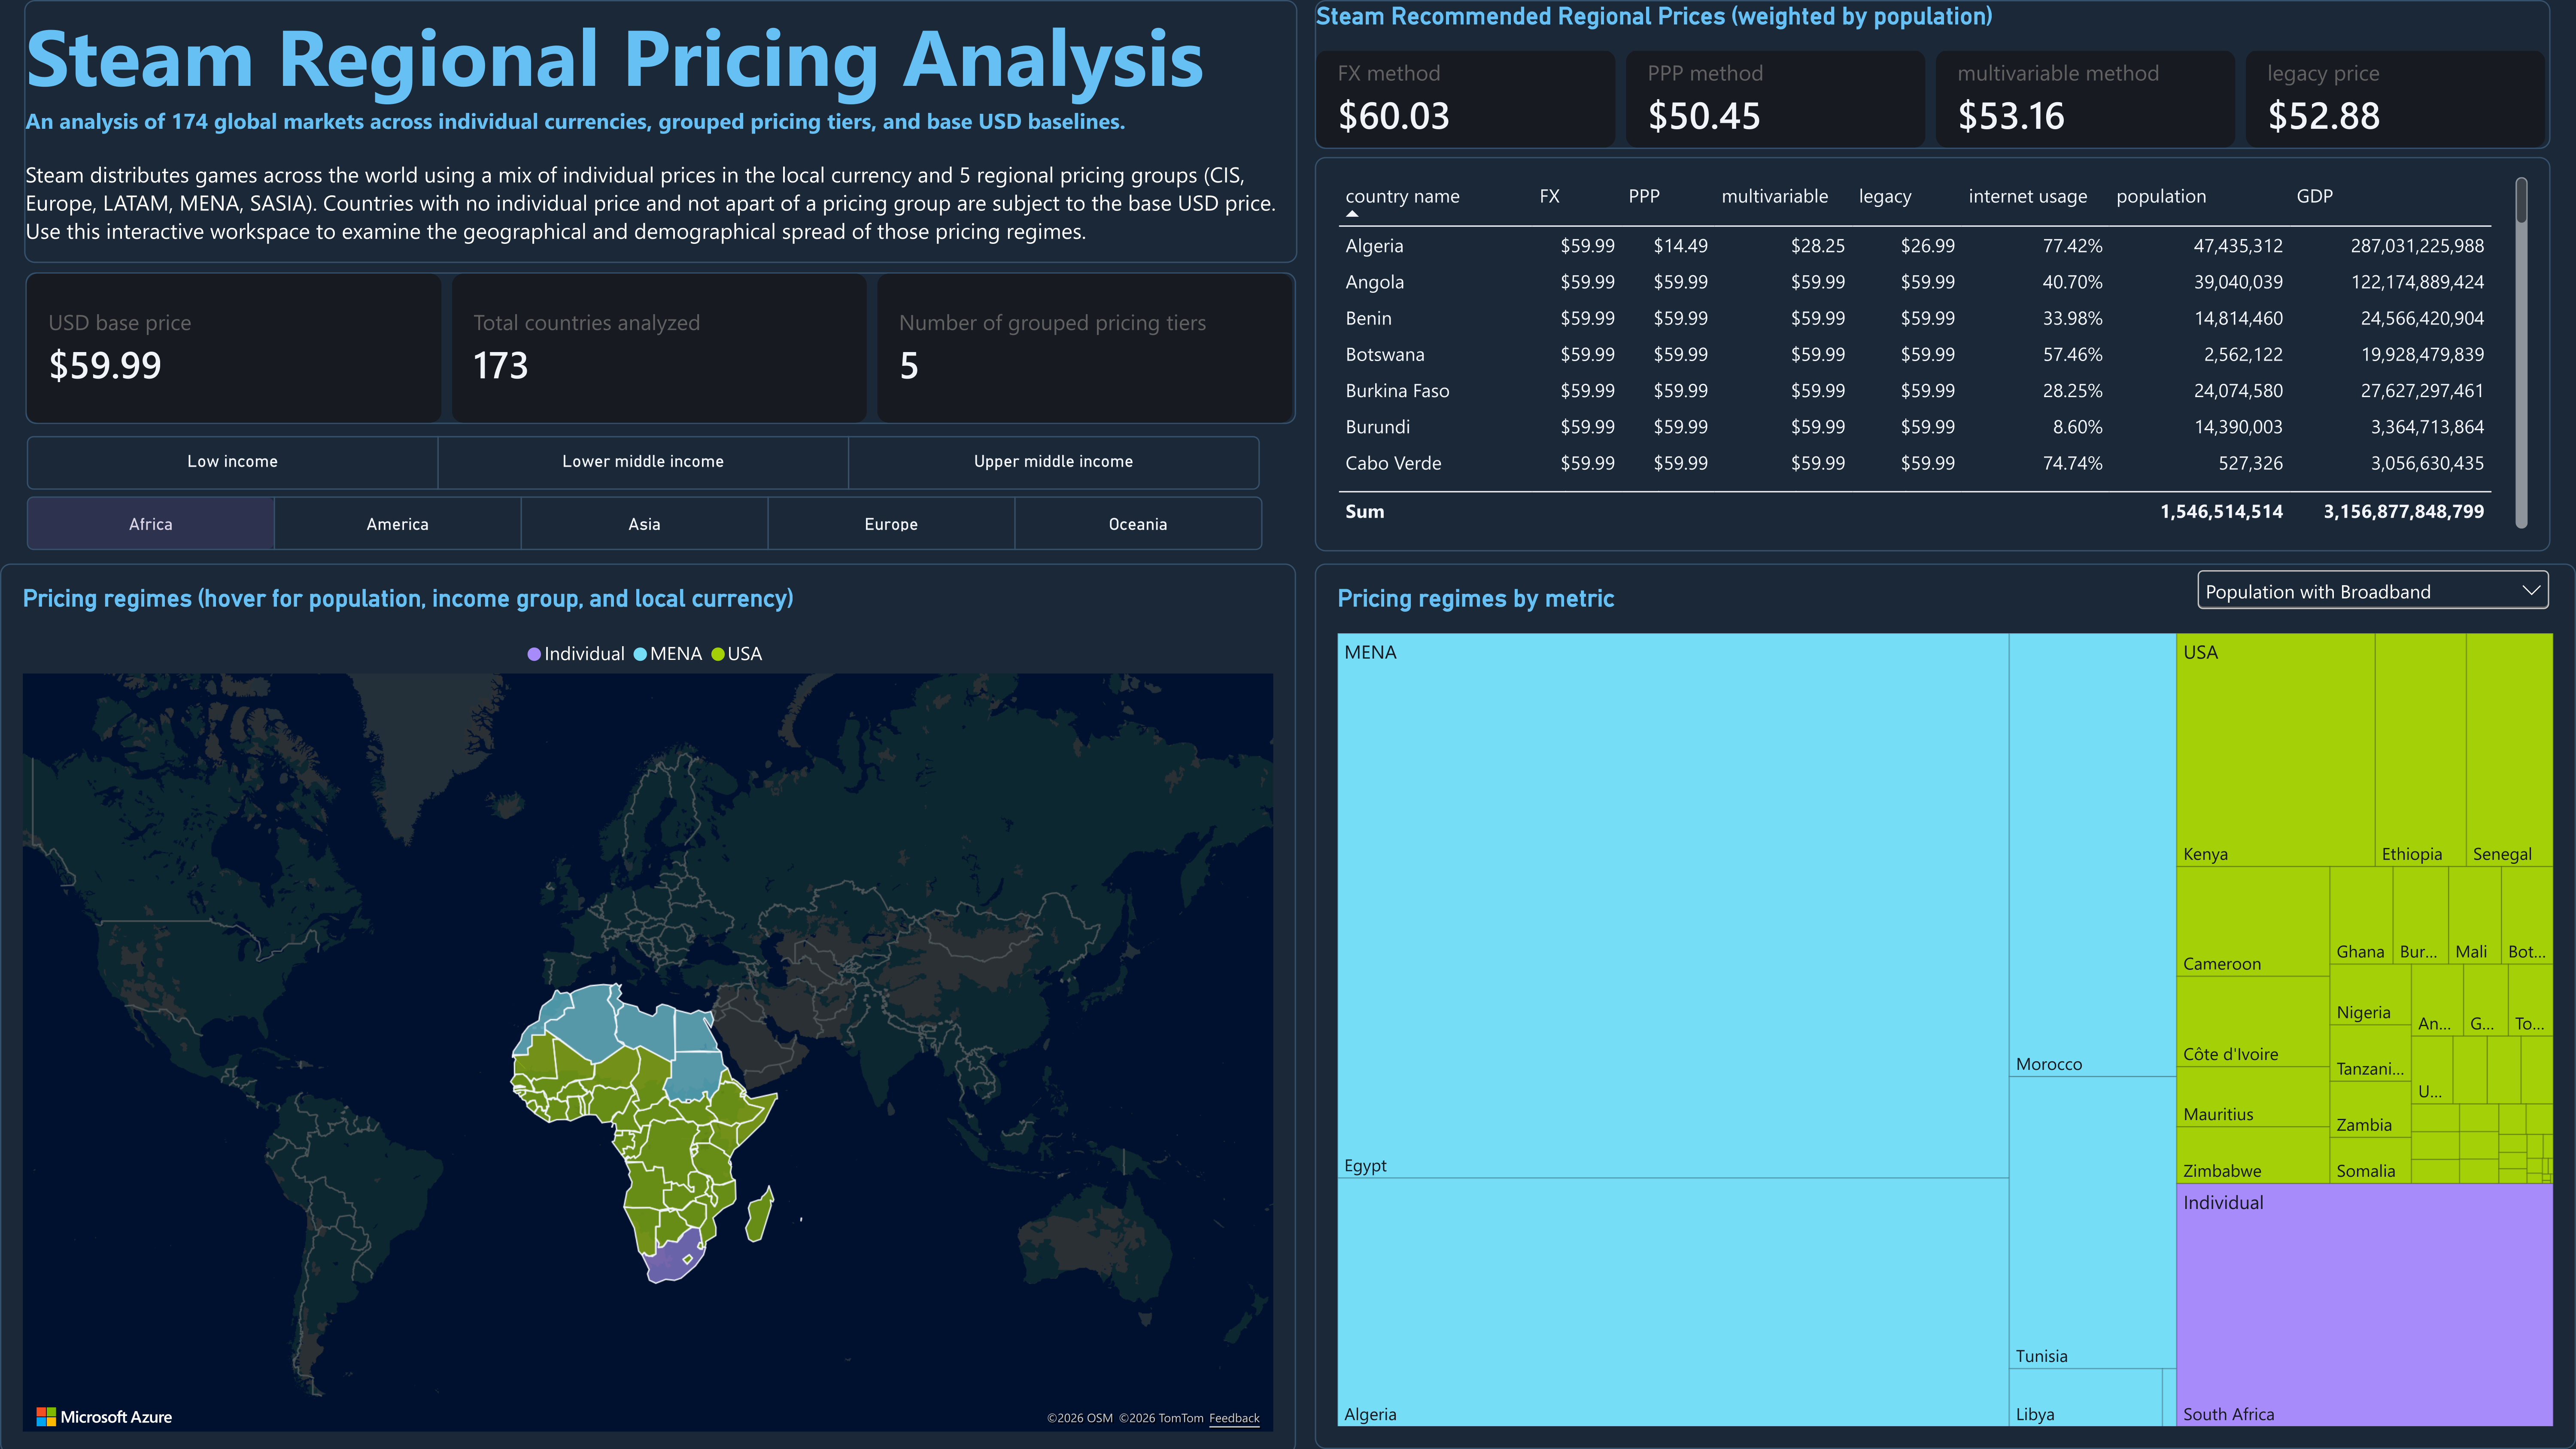

The page's visual inventory and layout, read from the dashboard file:
{"tool":"powerbi","page":{"name":"Geographic and demographic distribution of pricing regimes","canvas":[1920,1080],"ordinal":0},"visuals":[{"type":"azureMap","title":"Pricing regimes (hover for population, income group, and local currency)","fields":{"Category":["steam_regional_pricing_dataset.iso2","steam_regional_pricing_dataset.iso3"],"Series":["steam_regional_pricing_dataset.group_name"]},"box":[0,419.8,965.8,664.2],"z":0},{"type":"treemap","title":"Pricing regimes by metric","fields":{"Details":["steam_regional_pricing_dataset.country_name"],"Group":["steam_regional_pricing_dataset.group_name"],"Values":["steam_regional_pricing_dataset.Total Population"]},"box":[980.4,419.8,939.2,660.2],"z":1000},{"type":"cardVisual","fields":{"Data":["steam_regional_pricing_dataset.USD Base Price","steam_regional_pricing_dataset.Total Countries Analyzed","steam_regional_pricing_dataset.Number of Grouped Pricing Tiers"]},"box":[18.6,202.9,947.1,113.6],"z":2000},{"type":"cardVisual","title":"Steam Recommended Regional Prices (weighted by population)","fields":{"Data":["steam_regional_pricing_dataset.Weighted Average Price FX","steam_regional_pricing_dataset.Weighted Average Price PPP","steam_regional_pricing_dataset.Weighted Average Price multivariable","steam_regional_pricing_dataset.Weighted Average Price legacy"]},"box":[980,0,921.4,111.4],"z":3000},{"type":"advancedSlicerVisual","fields":{"Values":["steam_regional_pricing_dataset.continent"]},"box":[0,370,961,40],"z":4000},{"type":"advancedSlicerVisual","fields":{"Values":["steam_regional_pricing_dataset.WB_income_classification"]},"box":[0,325,961.4,40],"z":5000},{"type":"slicer","fields":{"Values":["treemap parameters.treemap parameters"]},"box":[1633.3,420,271.7,55],"z":6000},{"type":"textbox","box":[18,0,948.6,195.7],"z":7000},{"type":"tableEx","fields":{"Values":["steam_regional_pricing_dataset.country_name","steam_regional_pricing_dataset.price_steam_FX_USD","steam_regional_pricing_dataset.price_steam_PPP_USD","steam_regional_pricing_dataset.price_steam_multivariable_USD","steam_regional_pricing_dataset.price_steam_legacy_USD","steam_regional_pricing_dataset.WB_percent_using_internet","Sum(steam_regional_pricing_dataset.total_population)","Sum(steam_regional_pricing_dataset.WB_GDP_USD)"]},"box":[980,117.1,921.4,294.3],"z":8000}]}

Visuals, with their boxes in screenshot pixels (x1, y1, x2, y2), scaled from the page's 1920x1080 canvas onto the 2576x1449 screenshot:
"Pricing regimes (hover for population, income group, and local currency)" azureMap: select_region(0, 563, 1296, 1449)
"Pricing regimes by metric" treemap: select_region(1315, 563, 2576, 1449)
cardVisual - steam_regional_pricing_dataset.USD Base Price x steam_regional_pricing_dataset.Total Countries Analyzed: select_region(25, 272, 1296, 425)
"Steam Recommended Regional Prices (weighted by population)" cardVisual: select_region(1315, 0, 2551, 149)
advancedSlicerVisual - steam_regional_pricing_dataset.continent: select_region(0, 496, 1289, 550)
advancedSlicerVisual - steam_regional_pricing_dataset.WB_income_classification: select_region(0, 436, 1290, 490)
slicer - treemap parameters.treemap parameters: select_region(2191, 563, 2556, 637)
textbox: select_region(24, 0, 1297, 263)
tableEx - steam_regional_pricing_dataset.country_name x steam_regional_pricing_dataset.price_steam_FX_USD: select_region(1315, 157, 2551, 552)
